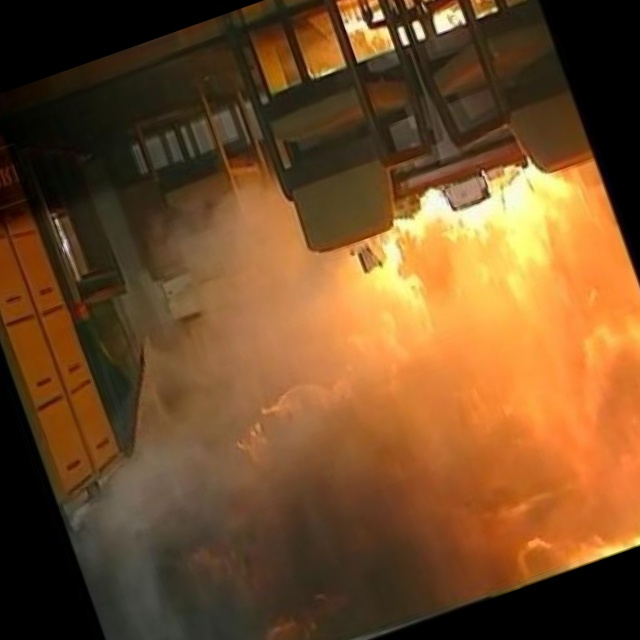fire: (322, 186, 640, 617)
smoke: (52, 381, 417, 640)
